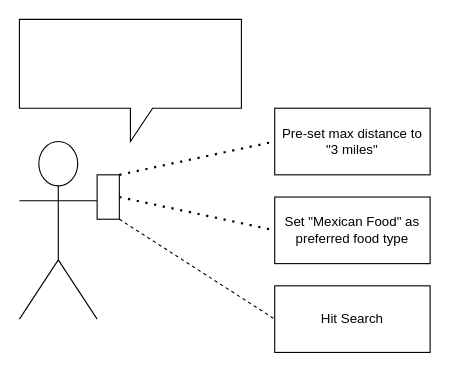
This 450x372 diagram has some shape labels left out. Here are the shapes that lost their labels. From the top down, the centre of each, then its label:
At point (129, 80): "I want to eat Mexican food, but I want to eat as close to my office as possible.".
At point (57, 229): "Actor".
